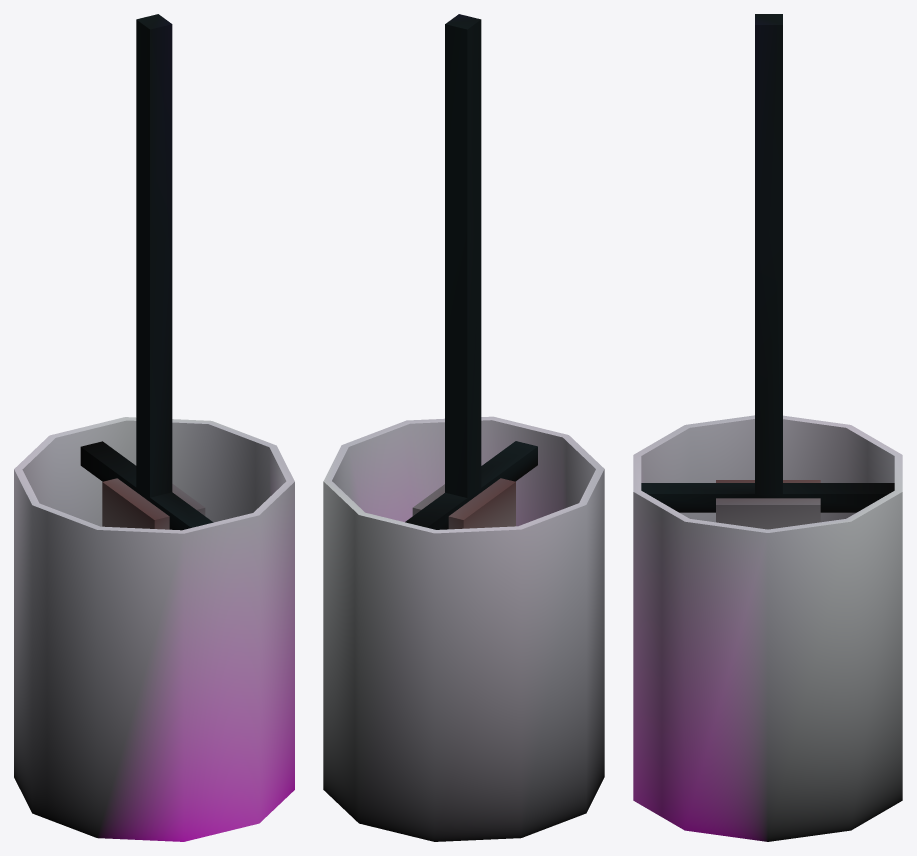
The model's file is tube_hanging_lamp 1.FBX.
The picture shows the model from 3 angles, left to right: view 1: azimuth 30°, elevation 25°; view 2: azimuth 150°, elevation 25°; view 3: azimuth 270°, elevation 25°; orthographic projection.
Visible parts, largest first — view 1: shade, tube hanging lamp, bulb02; view 2: shade, tube hanging lamp, bulb02; view 3: shade, tube hanging lamp, bulb02.
Boxes of the visible parts, box(x1,y1,x2,y2) form: shade: box(14, 417, 294, 841); tube hanging lamp: box(80, 14, 213, 530); bulb02: box(102, 478, 205, 529); shade: box(323, 416, 604, 841); tube hanging lamp: box(405, 14, 537, 529); bulb02: box(412, 478, 515, 529); shade: box(633, 415, 902, 841); tube hanging lamp: box(641, 14, 894, 512); bulb02: box(716, 480, 820, 529).
Bounding box in the file's own units: 0.276 × 0.8212 × 0.2625.
